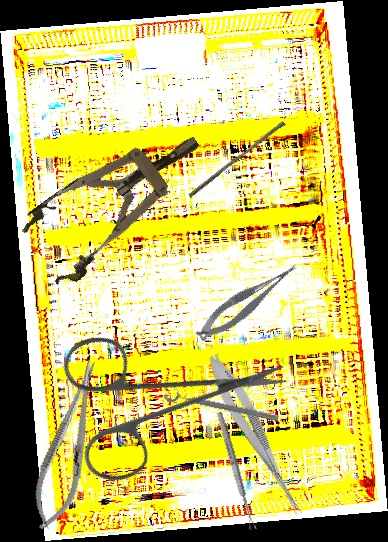Fixation Ring: (163, 382, 281, 425)
Iris Scissors: (20, 262, 293, 535)
Micro Scissor: (199, 350, 314, 520), (188, 259, 308, 346)
Needle Holder: (23, 355, 114, 536)
Pusher: (188, 117, 286, 202)
Speculum: (13, 108, 222, 292)
Surgical Spoon: (215, 411, 257, 531)
